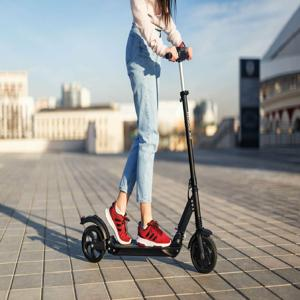human on a scooter: (79, 1, 219, 275)
